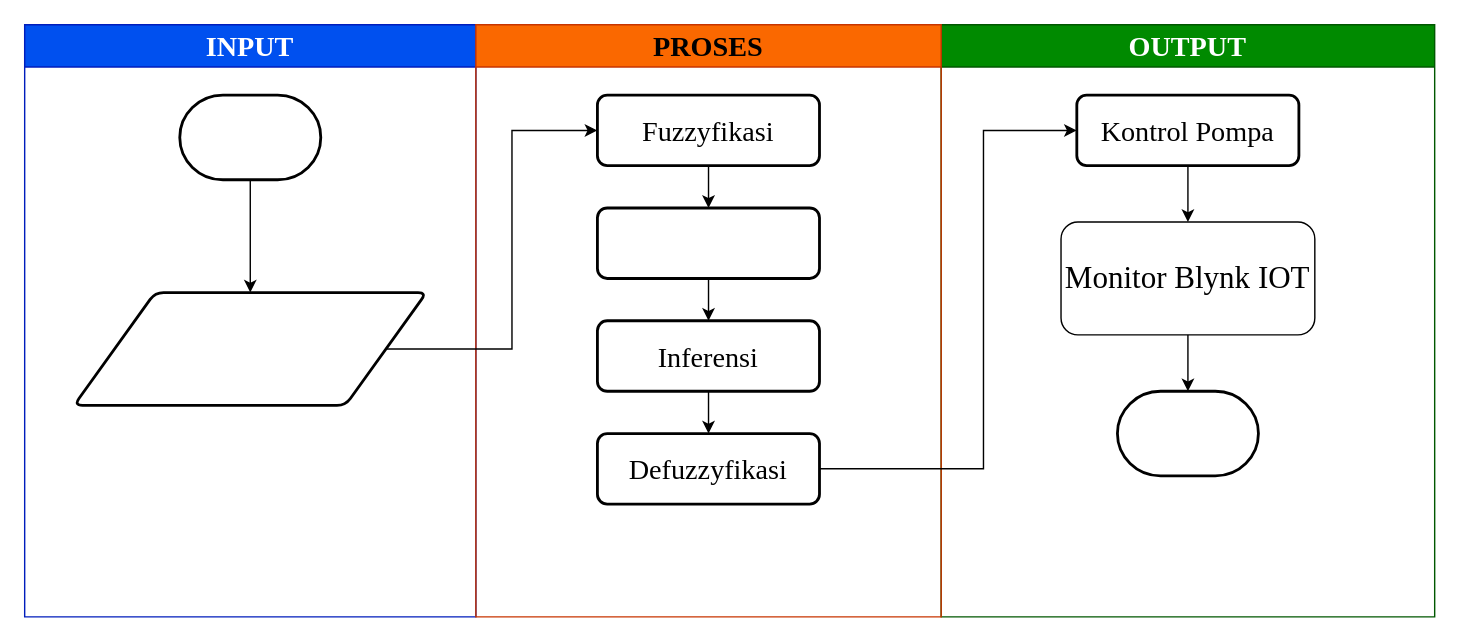
The diagram is 1459 pixels wide and 642 high, and some of its shapes have lost their labels. Each missing label, with the centre of its shape:
MULAI: [249,136]
pH, EC, Suhu, Debit: [249,348]
Rule Based: [707,242]
SELESAI: [1187,433]
